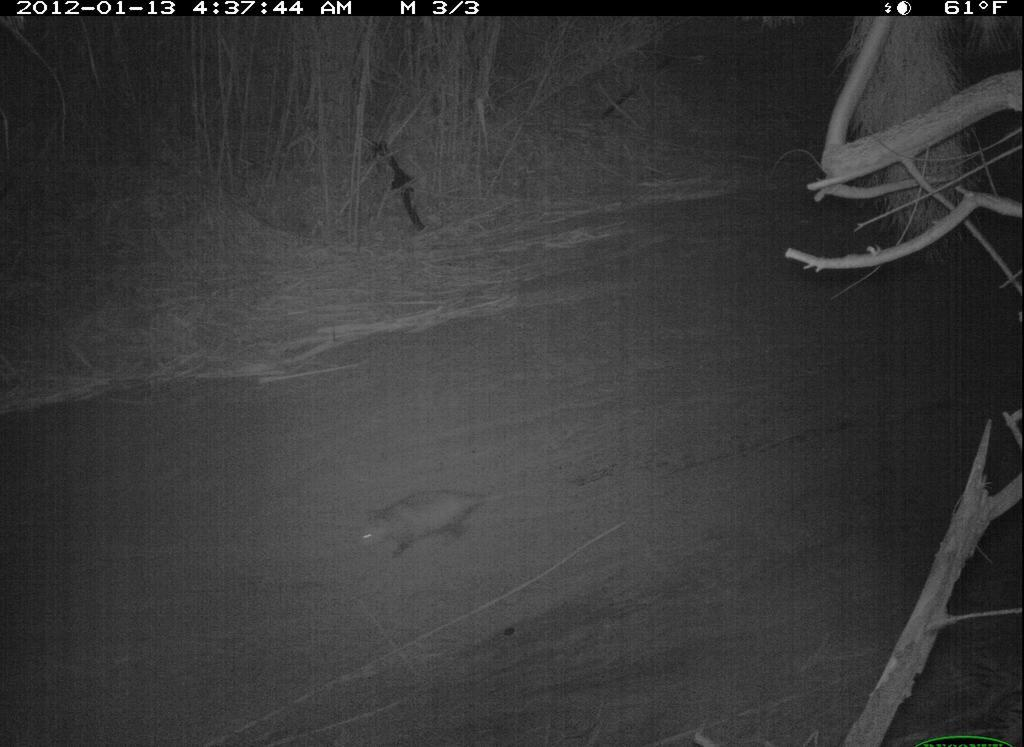opossum: (353, 479, 536, 569)
